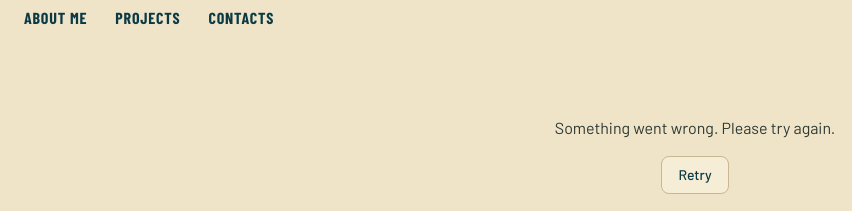
LearningGate › offers a retry instead of the page when the articles fail to load
Expected: the message "Something went wrong. Please try again." is shown, top-left (555, 116), bottom-right (835, 140)
Expected: the link "Learning" is not shown
Step 1. Click the button "Retry" → (695, 175), box top-left (661, 156), bottom-right (729, 194)
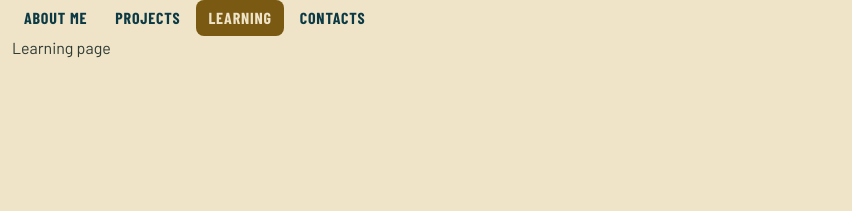
Now the text "Learning page" is shown, box top-left (12, 38), bottom-right (111, 57)
